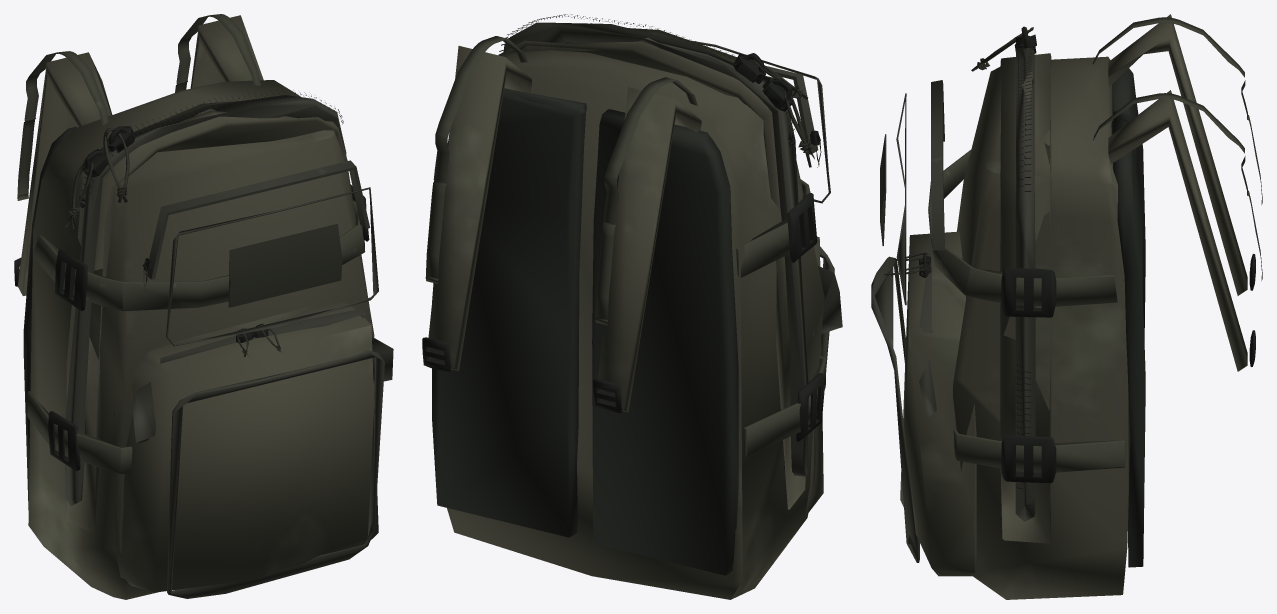
The model's file is pack3.glb.
The picture shows the model from 3 angles, left to right: view 1: azimuth 30°, elevation 25°; view 2: azimuth 150°, elevation 25°; view 3: azimuth 270°, elevation 25°; orthographic projection. The views are drawn at different scales.
Visible parts, largest first — view 1: prop; view 2: prop; view 3: prop.
Part boxes in pixels (box(x1,y1,x2,y2)): prop: box(14, 14, 393, 599); prop: box(422, 14, 842, 599); prop: box(871, 14, 1262, 599).
Bounding box in the file's own units: 0.3339 × 0.499 × 0.358.
Materials: 7 (3 with a texture image).
